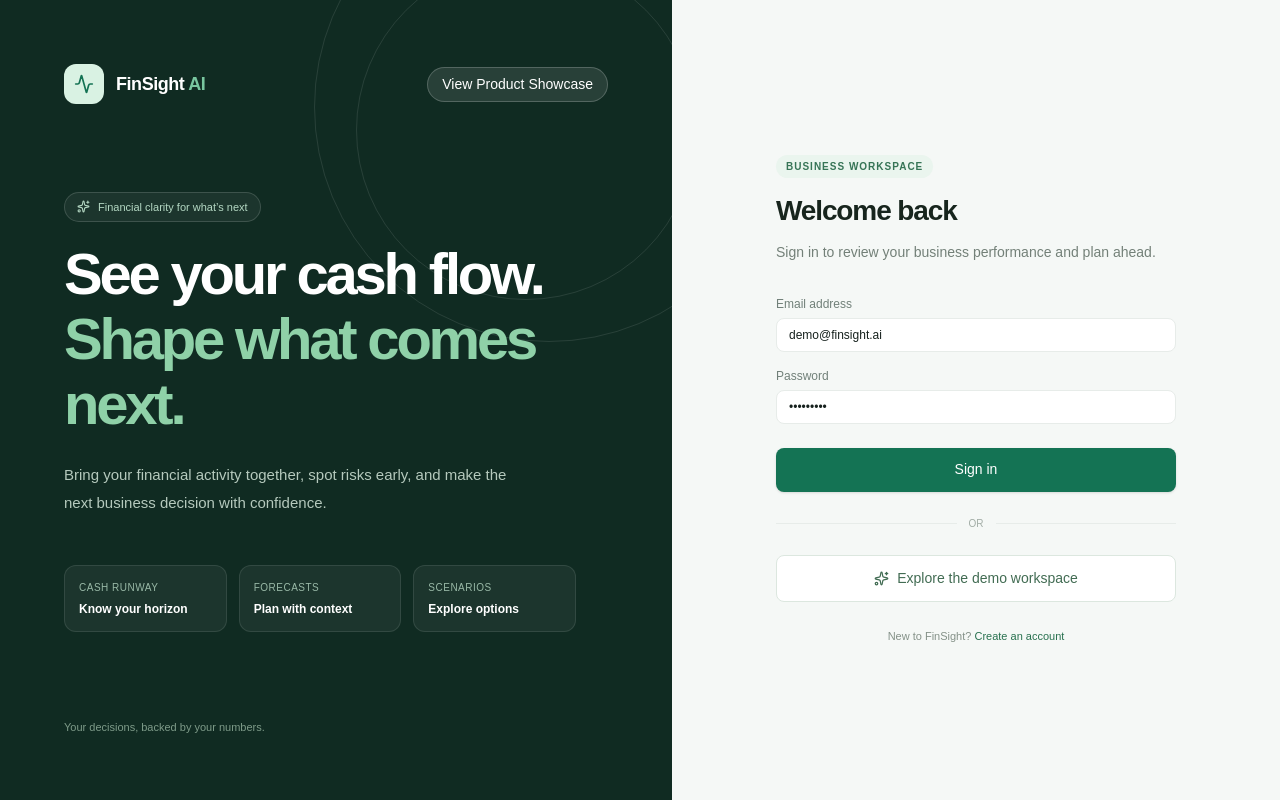
FinSight sign in › offers demo access and an account creation path
expect the heading "Welcome back" is shown: met, box [776, 194, 957, 226]
expect the button "Explore the demo workspace" is shown: met, box [776, 554, 1176, 602]
Step 1. Click the button "Create an account" → x=1019, y=636, box [974, 626, 1064, 646]
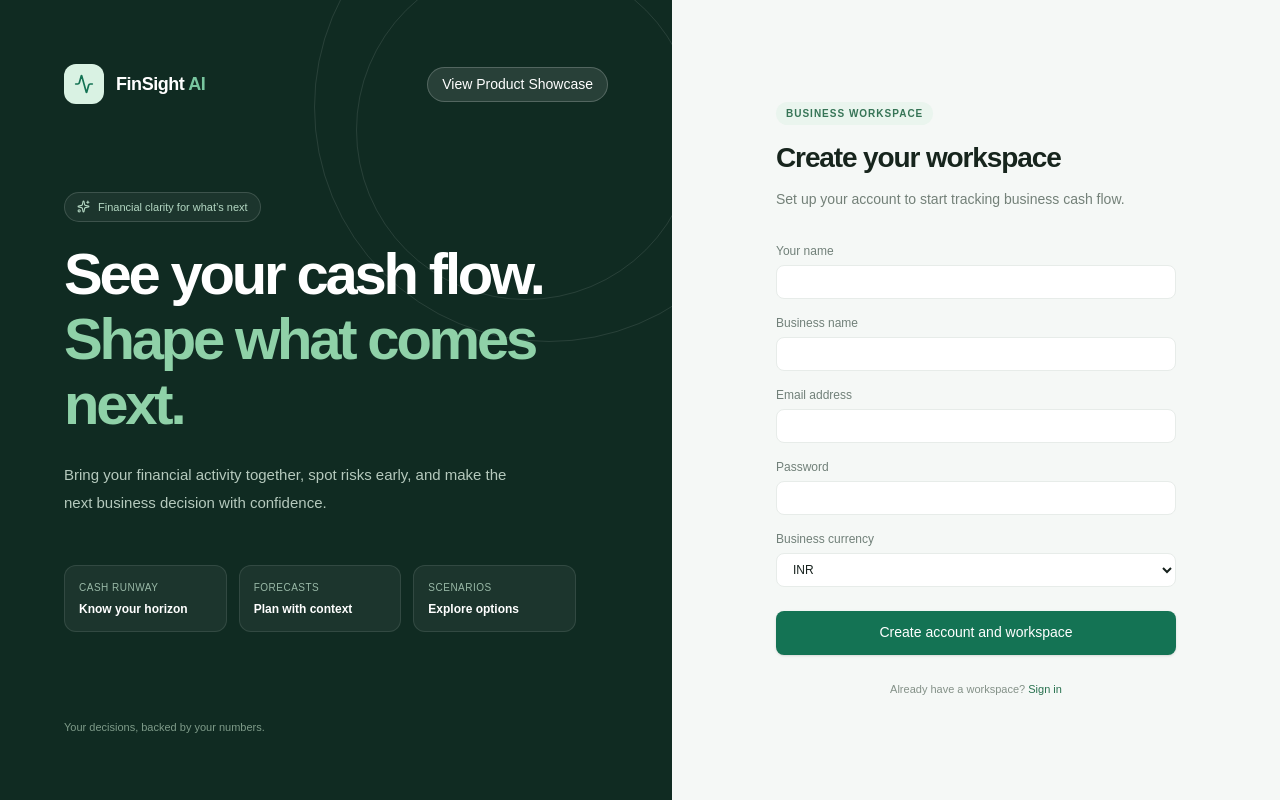
expect the heading "Create your workspace" is shown: met, box [776, 142, 1061, 172]
expect the button "Create account and workspace" is shown: met, box [776, 610, 1176, 654]
